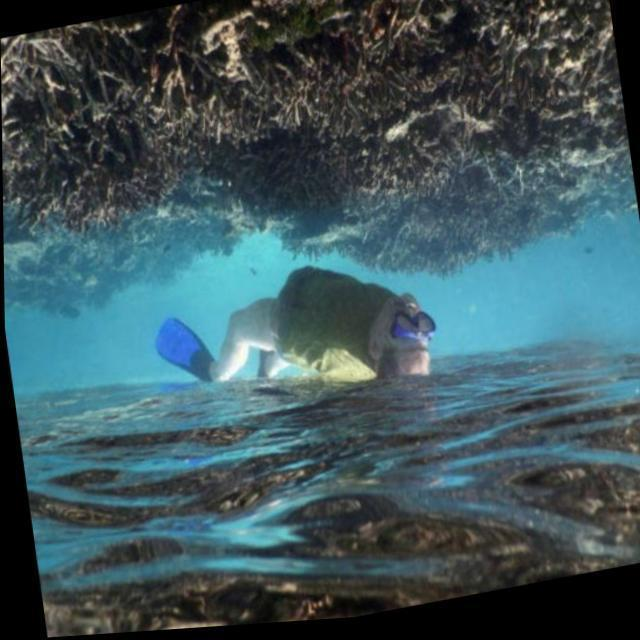Dead Coral: (1, 0, 614, 303)
